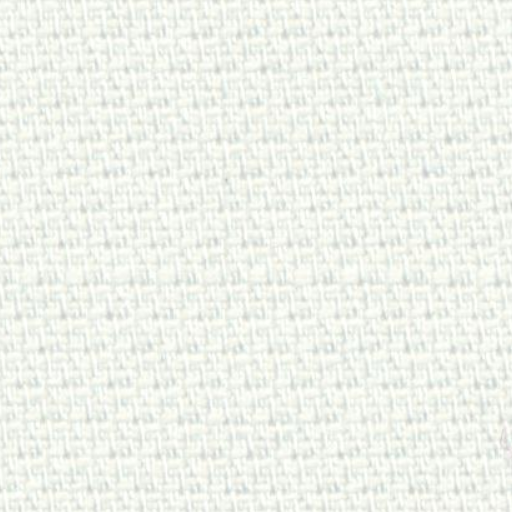TuoSha: (24, 224, 488, 322)
